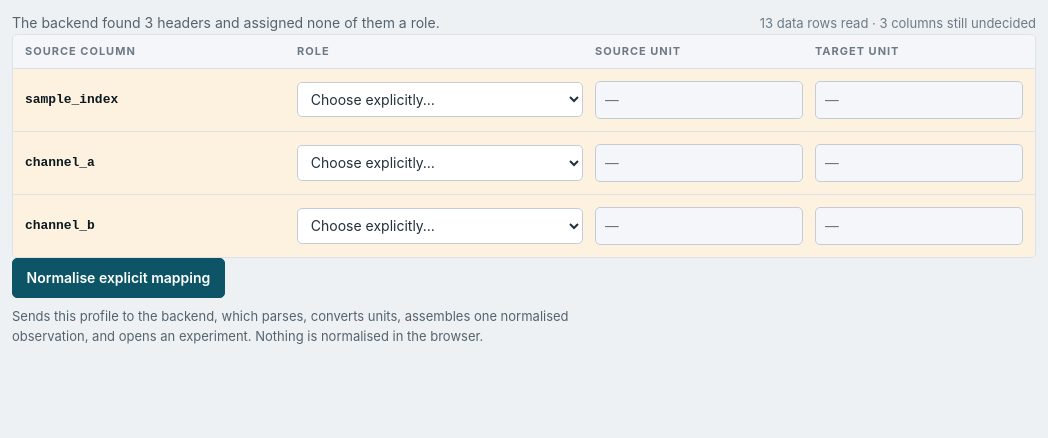
Scenario: source and mapping presentation › blocks an incomplete mapping before submission
The image size is (1048, 438).
Step 1. Click the button "Normalise explicit mapping" → x=118, y=278, box [12,258,225,298]
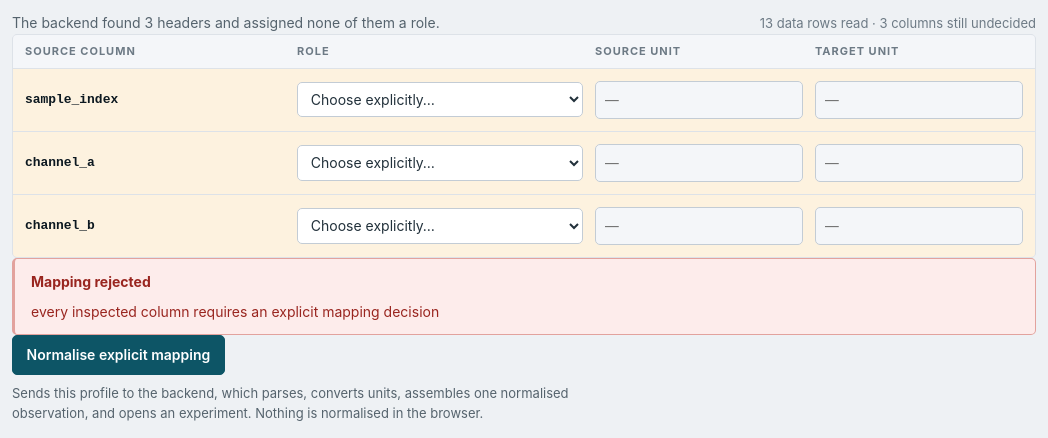
Expected: the message shows "every inspected column requires an explicit mapping decision", [31,303,439,320]
